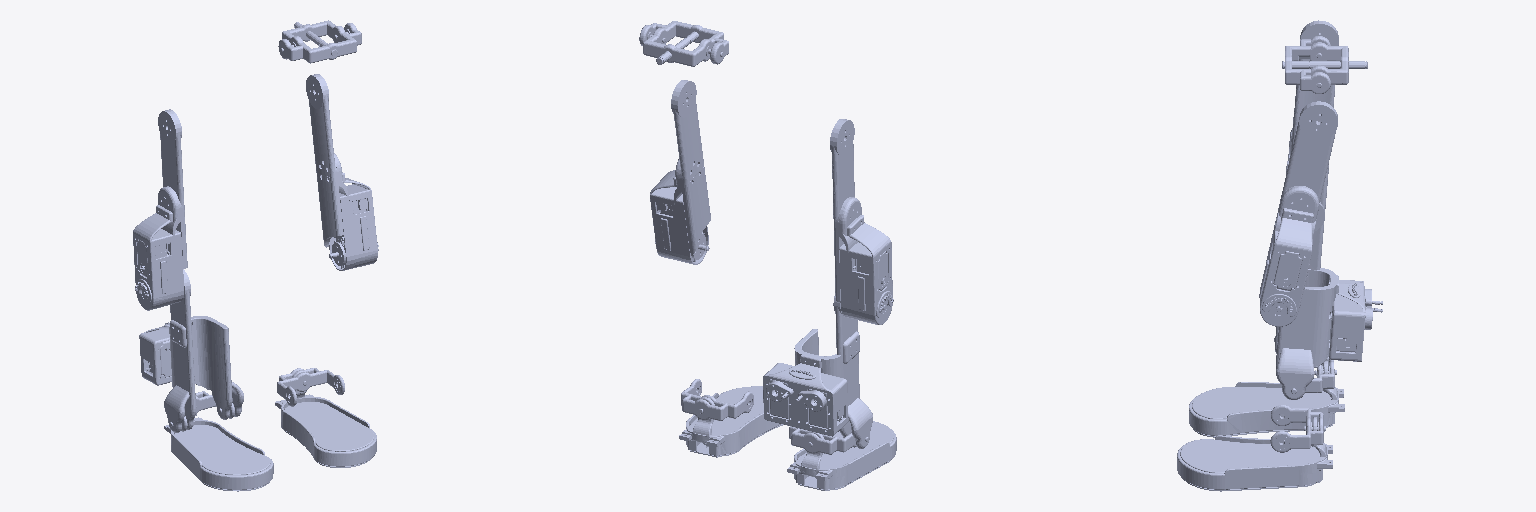
robot.urdf — exo_n2:
<robot
  name="exo_n2">
  <link
    name="pelvis_link">
    <inertial>
      <origin
        xyz="0 0 0"
        rpy="0 0 0" />
      <mass
        value="0.87618" />
      <inertia
        ixx="0.00054272"
        ixy="-2.7795E-06"
        ixz="-1.8899E-06"
        iyy="0.0018275"
        iyz="2.8215E-05"
        izz="0.0018189" />
    </inertial>
    <visual>
      <origin
        xyz="0 0 0"
        rpy="0 0 0" />
      <geometry>
        <mesh
          filename="package://exo_n2/meshes/pelvis_link.STL" />
      </geometry>
      <material
        name="">
        <color
          rgba="0.79216 0.81961 0.93333 1" />
      </material>
    </visual>
    <collision>
      <origin
        xyz="0 0 0"
        rpy="0 0 0" />
      <geometry>
        <mesh
          filename="package://exo_n2/meshes/pelvis_link.STL" />
      </geometry>
    </collision>
  </link>
  <link
    name="l_leg_hip_y_link">
    <inertial>
      <origin
        xyz="3.91489940153311E-05 0.064658467084771 0.000195019300466948"
        rpy="0 0 0" />
      <mass
        value="0.0865282073086405" />
      <inertia
        ixx="6.28988232637541E-06"
        ixy="-4.76591689072165E-09"
        ixz="1.97203996620393E-08"
        iyy="5.15088996299801E-06"
        iyz="-2.37412429486974E-08"
        izz="1.13918898641058E-06" />
    </inertial>
    <visual>
      <origin
        xyz="0 0 0"
        rpy="0 0 0" />
      <geometry>
        <mesh
          filename="package://exo_n2/meshes/l_leg_hip_y_link.STL" />
      </geometry>
      <material
        name="">
        <color
          rgba="0.792156862745098 0.819607843137255 0.933333333333333 1" />
      </material>
    </visual>
    <collision>
      <origin
        xyz="0 0 0"
        rpy="0 0 0" />
      <geometry>
        <mesh
          filename="package://exo_n2/meshes/l_leg_hip_y_link.STL" />
      </geometry>
    </collision>
  </link>
  <joint
    name="l_leg_hip_y"
    type="revolute">
    <origin
      xyz="0.22985 -0.24294 0.078481"
      rpy="1.5708 0 0" />
    <parent
      link="pelvis_link" />
    <child
      link="l_leg_hip_y_link" />
    <axis
      xyz="0 1 0" />
    <limit
      lower="0"
      upper="6.28"
      effort="1000"
      velocity="6.5" />
    <dynamics
      damping="0.1"
      friction="0" />
  </joint>
  <link
    name="l_leg_hip_r_link">
    <inertial>
      <origin
        xyz="0.0267450489884957 -0.0578970138026583 -0.022764403905338"
        rpy="0 0 0" />
      <mass
        value="0.57732261179279" />
      <inertia
        ixx="0.00199162169853065"
        ixy="-2.92633289726119E-06"
        ixz="-1.35971455170849E-05"
        iyy="0.000385603527413131"
        iyz="-0.000341820278449353"
        izz="0.00181446392966293" />
    </inertial>
    <visual>
      <origin
        xyz="0 0 0"
        rpy="0 0 0" />
      <geometry>
        <mesh
          filename="package://exo_n2/meshes/l_leg_hip_r_link.STL" />
      </geometry>
      <material
        name="">
        <color
          rgba="0.792156862745098 0.819607843137255 0.933333333333333 1" />
      </material>
    </visual>
    <collision>
      <origin
        xyz="0 0 0"
        rpy="0 0 0" />
      <geometry>
        <mesh
          filename="package://exo_n2/meshes/l_leg_hip_r_link.STL" />
      </geometry>
    </collision>
  </link>
  <joint
    name="l_leg_hip_r"
    type="revolute">
    <origin
      xyz="0 0.0618 0"
      rpy="0 0 0" />
    <parent
      link="l_leg_hip_y_link" />
    <child
      link="l_leg_hip_r_link" />
    <axis
      xyz="-0.0038502 0 0.99999" />
    <limit
      lower="0"
      upper="6.28"
      effort="1000"
      velocity="6.5" />
    <dynamics
      damping="0.1"
      friction="0" />
  </joint>
  <link
    name="l_leg_hip_p_link">
    <inertial>
      <origin
        xyz="0.000116188399237854 -0.159183576861761 0.018732669909887"
        rpy="0 0 0" />
      <mass
        value="0.286678555449467" />
      <inertia
        ixx="0.00114218476024795"
        ixy="4.17774250045668E-07"
        ixz="6.6659846718969E-07"
        iyy="9.2518603710799E-05"
        iyz="0.000208313587693521"
        izz="0.00105234705913894" />
    </inertial>
    <visual>
      <origin
        xyz="0 0 0"
        rpy="0 0 0" />
      <geometry>
        <mesh
          filename="package://exo_n2/meshes/l_leg_hip_p_link.STL" />
      </geometry>
      <material
        name="">
        <color
          rgba="0.792156862745098 0.819607843137255 0.933333333333333 1" />
      </material>
    </visual>
    <collision>
      <origin
        xyz="0 0 0"
        rpy="0 0 0" />
      <geometry>
        <mesh
          filename="package://exo_n2/meshes/l_leg_hip_p_link.STL" />
      </geometry>
    </collision>
  </link>
  <joint
    name="l_leg_hip_p"
    type="revolute">
    <origin
      xyz="-0.00019015 -0.14104 0.00076427"
      rpy="-1.5521 1.3637 -1.5538" />
    <parent
      link="l_leg_hip_r_link" />
    <child
      link="l_leg_hip_p_link" />
    <axis
      xyz="0 0 1" />
    <limit
      lower="0"
      upper="6.28"
      effort="1000"
      velocity="6.5" />
    <dynamics
      damping="0.1"
      friction="0" />
  </joint>
  <link
    name="l_leg_kn_p_link">
    <inertial>
      <origin
        xyz="-0.029092 -0.12792 -0.034415"
        rpy="0 0 0" />
      <mass
        value="0.50185" />
      <inertia
        ixx="0.00096851"
        ixy="-0.00014254"
        ixz="-4.989E-05"
        iyy="0.00058261"
        iyz="-4.2913E-05"
        izz="0.00074525" />
    </inertial>
    <visual>
      <origin
        xyz="0 0 0"
        rpy="0 0 0" />
      <geometry>
        <mesh
          filename="package://exo_n2/meshes/l_leg_kn_p_link.STL" />
      </geometry>
      <material
        name="">
        <color
          rgba="0.79216 0.81961 0.93333 1" />
      </material>
    </visual>
    <collision>
      <origin
        xyz="0 0 0"
        rpy="0 0 0" />
      <geometry>
        <mesh
          filename="package://exo_n2/meshes/l_leg_kn_p_link.STL" />
      </geometry>
    </collision>
  </link>
  <joint
    name="l_leg_kn_p"
    type="revolute">
    <origin
      xyz="0 -0.2451 0"
      rpy="-0.33198 -1.5667 0.56022" />
    <parent
      link="l_leg_hip_p_link" />
    <child
      link="l_leg_kn_p_link" />
    <axis
      xyz="0.99999 -0.0013273 0.0038502" />
    <limit
      lower="0"
      upper="6.28"
      effort="1000"
      velocity="6.5" />
    <dynamics
      damping="0.1"
      friction="0" />
  </joint>
  <link
    name="l_leg_an_p_link">
    <inertial>
      <origin
        xyz="0.029948 -0.00049014 -0.031986"
        rpy="0 0 0" />
      <mass
        value="0.032575" />
      <inertia
        ixx="4.1828E-06"
        ixy="4.3165E-08"
        ixz="-1.5865E-12"
        iyy="6.8195E-06"
        iyz="2.5966E-14"
        izz="2.6382E-06" />
    </inertial>
    <visual>
      <origin
        xyz="0 0 0"
        rpy="0 0 0" />
      <geometry>
        <mesh
          filename="package://exo_n2/meshes/l_leg_an_p_link.STL" />
      </geometry>
      <material
        name="">
        <color
          rgba="0.79216 0.81961 0.93333 1" />
      </material>
    </visual>
    <collision>
      <origin
        xyz="0 0 0"
        rpy="0 0 0" />
      <geometry>
        <mesh
          filename="package://exo_n2/meshes/l_leg_an_p_link.STL" />
      </geometry>
    </collision>
  </link>
  <joint
    name="l_leg_an_p"
    type="revolute">
    <origin
      xyz="-0.00028227 -0.20999 0.00091884"
      rpy="-1.0239 1.5634 -1.0252" />
    <parent
      link="l_leg_kn_p_link" />
    <child
      link="l_leg_an_p_link" />
    <axis
      xyz="0 0 1" />
    <limit
      lower="0"
      upper="6.28"
      effort="1000"
      velocity="6.5" />
    <dynamics
      damping="0.1"
      friction="0" />
  </joint>
  <link
    name="l_leg_an_r_link">
    <inertial>
      <origin
        xyz="-0.036963 -0.045461 0.00047949"
        rpy="0 0 0" />
      <mass
        value="0.20448" />
      <inertia
        ixx="2.905E-05"
        ixy="-6.5652E-06"
        ixz="-2.2266E-06"
        iyy="7.423E-05"
        iyz="-1.1026E-07"
        izz="7.3595E-05" />
    </inertial>
    <visual>
      <origin
        xyz="0 0 0"
        rpy="0 0 0" />
      <geometry>
        <mesh
          filename="package://exo_n2/meshes/l_leg_an_r_link.STL" />
      </geometry>
      <material
        name="">
        <color
          rgba="0.79216 0.81961 0.93333 1" />
      </material>
    </visual>
    <collision>
      <origin
        xyz="0 0 0"
        rpy="0 0 0" />
      <geometry>
        <mesh
          filename="package://exo_n2/meshes/l_leg_an_r_link.STL" />
      </geometry>
    </collision>
  </link>
  <joint
    name="l_leg_an_r"
    type="revolute">
    <origin
      xyz="0 0 -0.031986"
      rpy="0.022566 -0.00036929 -4.1669E-06" />
    <parent
      link="l_leg_an_p_link" />
    <child
      link="l_leg_an_r_link" />
    <axis
      xyz="-0.99987 0.016364 0" />
    <limit
      lower="0"
      upper="6.28"
      effort="1000"
      velocity="6.5" />
    <dynamics
      damping="0.1"
      friction="0" />
  </joint>
  <link
    name="r_leg_hip_y_link">
    <inertial>
      <origin
        xyz="-3.60098880210595E-05 0.0646585007264543 0.000195615502412011"
        rpy="0 0 0" />
      <mass
        value="0.0865285747250378" />
      <inertia
        ixx="6.28792400897117E-06"
        ixy="4.38378294955236E-09"
        ixz="-1.02517952463626E-07"
        iyy="5.15088991911781E-06"
        iyz="-2.38139008830233E-08"
        izz="1.14116218729898E-06" />
    </inertial>
    <visual>
      <origin
        xyz="0 0 0"
        rpy="0 0 0" />
      <geometry>
        <mesh
          filename="package://exo_n2/meshes/r_leg_hip_y_link.STL" />
      </geometry>
      <material
        name="">
        <color
          rgba="0.792156862745098 0.819607843137255 0.933333333333333 1" />
      </material>
    </visual>
    <collision>
      <origin
        xyz="0 0 0"
        rpy="0 0 0" />
      <geometry>
        <mesh
          filename="package://exo_n2/meshes/r_leg_hip_y_link.STL" />
      </geometry>
    </collision>
  </link>
  <joint
    name="r_leg_hip_y"
    type="revolute">
    <origin
      xyz="-0.020151 -0.24294 0.078481"
      rpy="1.5708 0 0" />
    <parent
      link="pelvis_link" />
    <child
      link="r_leg_hip_y_link" />
    <axis
      xyz="0 1 0" />
    <limit
      lower="0"
      upper="6.28"
      effort="1000"
      velocity="6.5" />
    <dynamics
      damping="0.1"
      friction="0" />
  </joint>
  <link
    name="r_leg_hip_r_link">
    <inertial>
      <origin
        xyz="-0.0281204156627468 -0.0574298724097849 -0.0233214951273973"
        rpy="0 0 0" />
      <mass
        value="0.577328048094972" />
      <inertia
        ixx="0.0019911506063478"
        ixy="-3.02166901134013E-05"
        ixz="4.67708719458105E-06"
        iyy="0.000385657690986369"
        iyz="-0.000341155469876317"
        izz="0.00181430252622785" />
    </inertial>
    <visual>
      <origin
        xyz="0 0 0"
        rpy="0 0 0" />
      <geometry>
        <mesh
          filename="package://exo_n2/meshes/r_leg_hip_r_link.STL" />
      </geometry>
      <material
        name="">
        <color
          rgba="0.792156862745098 0.819607843137255 0.933333333333333 1" />
      </material>
    </visual>
    <collision>
      <origin
        xyz="0 0 0"
        rpy="0 0 0" />
      <geometry>
        <mesh
          filename="package://exo_n2/meshes/r_leg_hip_r_link.STL" />
      </geometry>
    </collision>
  </link>
  <joint
    name="r_leg_hip_r"
    type="revolute">
    <origin
      xyz="0 0.0618 0"
      rpy="0.00061113 -1.5247E-19 0.030665" />
    <parent
      link="r_leg_hip_y_link" />
    <child
      link="r_leg_hip_r_link" />
    <axis
      xyz="0.019919 0 0.9998" />
    <limit
      lower="0"
      upper="6.28"
      effort="1000"
      velocity="6.5" />
    <dynamics
      damping="0.1"
      friction="0" />
  </joint>
  <link
    name="r_leg_hip_p_link">
    <inertial>
      <origin
        xyz="-0.000119618394748278 -0.159183675797561 0.0186713820055504"
        rpy="0 0 0" />
      <mass
        value="0.286678786770336" />
      <inertia
        ixx="0.00114082283895834"
        ixy="-4.92449747489993E-07"
        ixz="-6.32813919597127E-07"
        iyy="9.11577765871152E-05"
        iyz="0.000207600861223223"
        izz="0.00105234571661871" />
    </inertial>
    <visual>
      <origin
        xyz="0 0 0"
        rpy="0 0 0" />
      <geometry>
        <mesh
          filename="package://exo_n2/meshes/r_leg_hip_p_link.STL" />
      </geometry>
      <material
        name="">
        <color
          rgba="0.792156862745098 0.819607843137255 0.933333333333333 1" />
      </material>
    </visual>
    <collision>
      <origin
        xyz="0 0 0"
        rpy="0 0 0" />
      <geometry>
        <mesh
          filename="package://exo_n2/meshes/r_leg_hip_p_link.STL" />
      </geometry>
    </collision>
  </link>
  <joint
    name="r_leg_hip_p"
    type="revolute">
    <origin
      xyz="-0.0022456 -0.14102 -0.00019031"
      rpy="-1.3075 -1.4942 1.2923" />
    <parent
      link="r_leg_hip_r_link" />
    <child
      link="r_leg_hip_p_link" />
    <axis
      xyz="0 0 -1" />
    <limit
      lower="0"
      upper="6.28"
      effort="1000"
      velocity="6.5" />
    <dynamics
      damping="0.1"
      friction="0" />
  </joint>
  <link
    name="r_leg_kn_p_link">
    <inertial>
      <origin
        xyz="0.026877 -0.12913 -0.032014"
        rpy="0 0 0" />
      <mass
        value="0.50185" />
      <inertia
        ixx="0.00097462"
        ixy="0.00013623"
        ixz="4.2383E-05"
        iyy="0.0005759"
        iyz="-4.2272E-05"
        izz="0.00074567" />
    </inertial>
    <visual>
      <origin
        xyz="0 0 0"
        rpy="0 0 0" />
      <geometry>
        <mesh
          filename="package://exo_n2/meshes/r_leg_kn_p_link.STL" />
      </geometry>
      <material
        name="">
        <color
          rgba="0.79216 0.81961 0.93333 1" />
      </material>
    </visual>
    <collision>
      <origin
        xyz="0 0 0"
        rpy="0 0 0" />
      <geometry>
        <mesh
          filename="package://exo_n2/meshes/r_leg_kn_p_link.STL" />
      </geometry>
    </collision>
  </link>
  <joint
    name="r_leg_kn_p"
    type="revolute">
    <origin
      xyz="0 -0.2451 0"
      rpy="0.67324 1.5453 0.65202" />
    <parent
      link="r_leg_hip_p_link" />
    <child
      link="r_leg_kn_p_link" />
    <axis
      xyz="0.99968 -0.015892 -0.019926" />
    <limit
      lower="0"
      upper="6.28"
      effort="1000"
      velocity="6.5" />
    <dynamics
      damping="0.1"
      friction="0" />
  </joint>
  <link
    name="r_leg_an_p_link">
    <inertial>
      <origin
        xyz="0.0299500118317793 -0.0003527129613492 0.032486237708059"
        rpy="0 0 0" />
      <mass
        value="0.0325752783592806" />
      <inertia
        ixx="4.18245398109744E-06"
        ixy="3.1064678573424E-08"
        ixz="-1.5602630172373E-12"
        iyy="6.81988765602678E-06"
        iyz="1.83746921930297E-14"
        izz="2.63816535620326E-06" />
    </inertial>
    <visual>
      <origin
        xyz="0 0 0"
        rpy="0 0 0" />
      <geometry>
        <mesh
          filename="package://exo_n2/meshes/r_leg_an_p_link.STL" />
      </geometry>
      <material
        name="">
        <color
          rgba="0.792156862745098 0.819607843137255 0.933333333333333 1" />
      </material>
    </visual>
    <collision>
      <origin
        xyz="0 0 0"
        rpy="0 0 0" />
      <geometry>
        <mesh
          filename="package://exo_n2/meshes/r_leg_an_p_link.STL" />
      </geometry>
    </collision>
  </link>
  <joint
    name="r_leg_an_p"
    type="revolute">
    <origin
      xyz="-0.0032248 -0.2099 0.0056129"
      rpy="1.8156 1.4885 1.7989" />
    <parent
      link="r_leg_kn_p_link" />
    <child
      link="r_leg_an_p_link" />
    <axis
      xyz="0 0 1" />
    <limit
      lower="0"
      upper="6.28"
      effort="1000"
      velocity="6.5" />
    <dynamics
      damping="0.1"
      friction="0" />
  </joint>
  <link
    name="r_leg_an_r_link">
    <inertial>
      <origin
        xyz="-0.0371352402831432 -0.0454478413493261 -0.00193667776316983"
        rpy="0 0 0" />
      <mass
        value="0.199852749313156" />
      <inertia
        ixx="2.84966330505607E-05"
        ixy="-8.0821623992085E-06"
        ixz="1.6544987600387E-06"
        iyy="6.41096702074288E-05"
        iyz="1.12058650825974E-07"
        izz="6.36141684782746E-05" />
    </inertial>
    <visual>
      <origin
        xyz="0 0 0"
        rpy="0 0 0" />
      <geometry>
        <mesh
          filename="package://exo_n2/meshes/r_leg_an_r_link.STL" />
      </geometry>
      <material
        name="">
        <color
          rgba="0.792156862745098 0.819607843137255 0.933333333333333 1" />
      </material>
    </visual>
    <collision>
      <origin
        xyz="0 0 0"
        rpy="0 0 0" />
      <geometry>
        <mesh
          filename="package://exo_n2/meshes/r_leg_an_r_link.STL" />
      </geometry>
    </collision>
  </link>
  <joint
    name="r_leg_an_r"
    type="revolute">
    <origin
      xyz="0 0 0.032486"
      rpy="-0.014623 0.00017221 -1.2591E-06" />
    <parent
      link="r_leg_an_p_link" />
    <child
      link="r_leg_an_r_link" />
    <axis
      xyz="-0.99993 0.011776 0" />
    <limit
      lower="0"
      upper="6.28"
      effort="1000"
      velocity="6.5" />
    <dynamics
      damping="0.1"
      friction="0" />
  </joint>
</robot>

--- Facts derived from the render (not from the file) ---
3 views of the same robot in one strip: view 1: azimuth 30°, elevation 25°; view 2: azimuth 150°, elevation 25°; view 3: azimuth 270°, elevation 25° (orthographic).
Robot: exo_n2 — 13 links, 12 joints (12 revolute); root link pelvis_link; default pose: every joint at zero.
Links seen in each view (by area): view 1: r_leg_kn_p_link, r_leg_hip_p_link, l_leg_hip_p_link, r_leg_an_r_link, l_leg_an_r_link, l_leg_hip_y_link, l_leg_an_p_link; view 2: r_leg_kn_p_link, r_leg_hip_p_link, l_leg_hip_p_link, r_leg_an_r_link, l_leg_an_r_link, l_leg_hip_y_link, l_leg_an_p_link, r_leg_an_p_link; view 3: l_leg_hip_p_link, r_leg_kn_p_link, l_leg_an_r_link, r_leg_an_r_link, l_leg_hip_y_link, l_leg_an_p_link, r_leg_hip_p_link, r_leg_an_p_link.
Link boxes in pixels (box(x1,y1,x2,y2)): r_leg_kn_p_link: box(139, 269, 243, 432); r_leg_hip_p_link: box(133, 109, 187, 310); l_leg_hip_p_link: box(306, 74, 378, 270); r_leg_an_r_link: box(164, 396, 273, 491); l_leg_an_r_link: box(275, 370, 376, 467); l_leg_hip_y_link: box(278, 20, 361, 63); l_leg_an_p_link: box(277, 368, 344, 406); r_leg_kn_p_link: box(763, 296, 872, 448); r_leg_hip_p_link: box(830, 119, 893, 324); l_leg_hip_p_link: box(650, 80, 710, 264); r_leg_an_r_link: box(787, 421, 896, 490); l_leg_an_r_link: box(679, 386, 782, 457); l_leg_hip_y_link: box(639, 21, 728, 66); l_leg_an_p_link: box(681, 379, 753, 420); r_leg_an_p_link: box(789, 426, 856, 454); l_leg_hip_p_link: box(1259, 101, 1337, 326); r_leg_kn_p_link: box(1274, 202, 1382, 399); l_leg_an_r_link: box(1177, 417, 1332, 491); r_leg_an_r_link: box(1189, 361, 1344, 437); l_leg_hip_y_link: box(1282, 36, 1367, 93); l_leg_an_p_link: box(1270, 405, 1325, 452); r_leg_hip_p_link: box(1286, 20, 1338, 208); r_leg_an_p_link: box(1305, 357, 1336, 392).
Size in the robot's own frame: 0.3679 by 0.2639 by 0.6153 metres.
8 mesh visuals loaded from 13 distinct referenced files (8 binary STL); not drawn: 5 (reference not matched to a file when rendering).